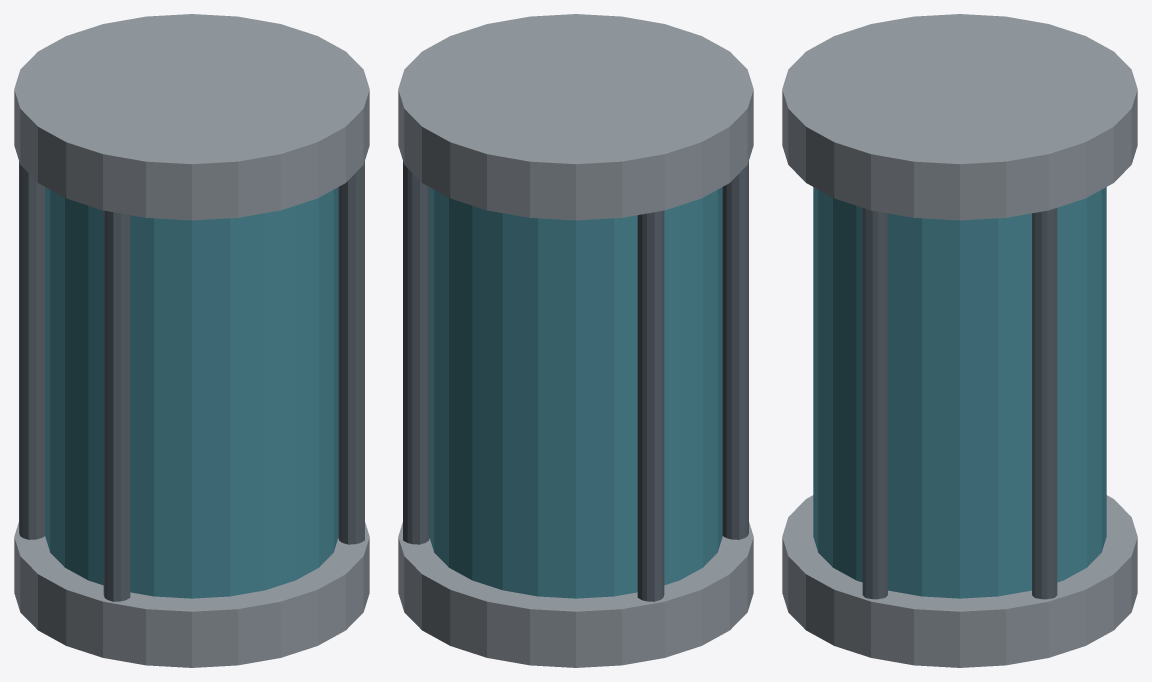
File: 3_Feature.fbx
3 renders of one model, left to right at view 1: azimuth 30°, elevation 25°; view 2: azimuth 150°, elevation 25°; view 3: azimuth 270°, elevation 25°, orthographic.
Visible parts, largest first — view 1: Body; view 2: Body; view 3: Body.
Part boxes in pixels (left/top/right/bottom): Body: left=14, top=14, right=369, bottom=667; Body: left=398, top=14, right=753, bottom=667; Body: left=782, top=14, right=1137, bottom=667.
Bounding box in the file's own units: 1.26 × 1.97 × 1.26.
